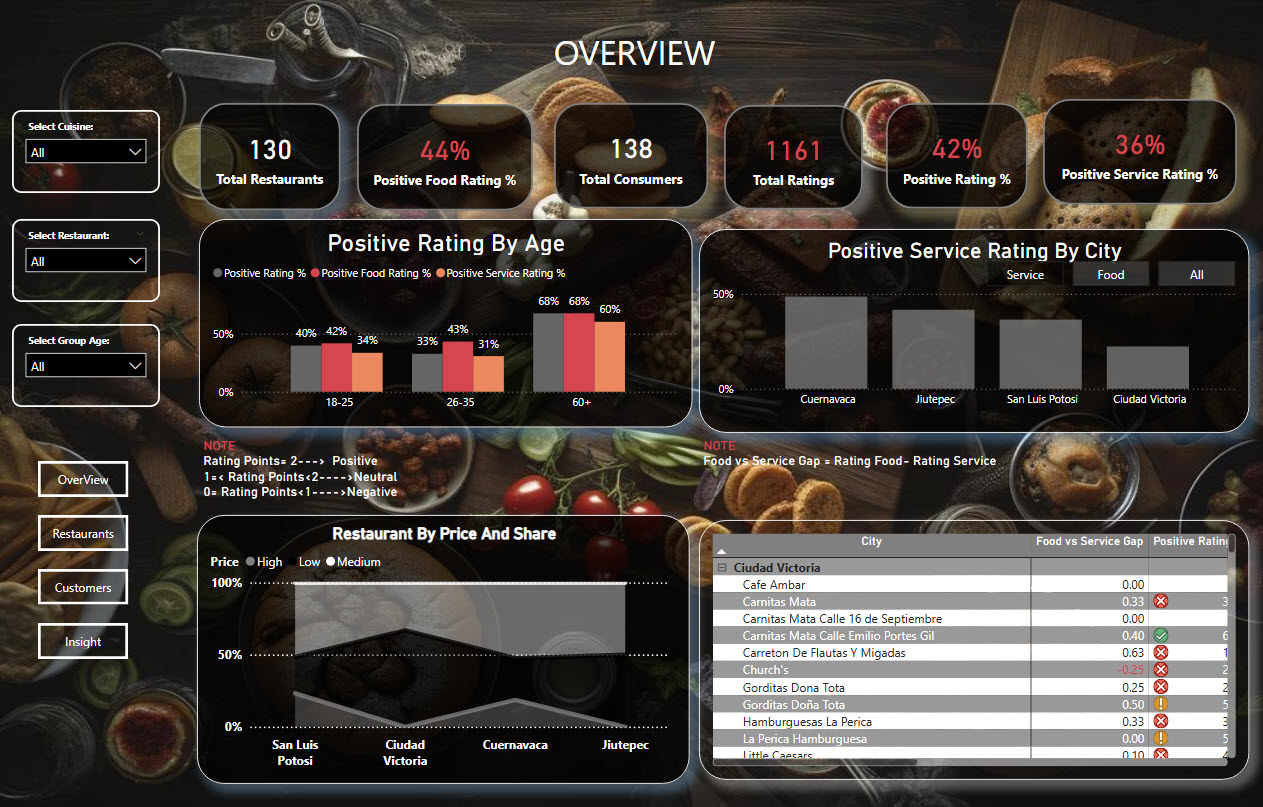

What the dashboard file says about the page in this screenshot:
{"tool":"powerbi","page":{"name":"OverView","canvas":[1400,900],"ordinal":0},"visuals":[{"type":"actionButton","title":"OverView","box":[42.8,512.6,100.2,39.9],"z":0},{"type":"card","title":"Total Revenue","fields":{"Values":["Measure.Total Restaurants"]},"box":[222,115,157,119],"z":1000},{"type":"card","title":"Total Revenue","fields":{"Values":["Measure.Positive Food Rating %"]},"box":[397,116,195,118],"z":2000},{"type":"card","title":"Total Revenue","fields":{"Values":["Measure.Total Consumers"]},"box":[615.1,115.3,170.7,117.5],"z":3000},{"type":"card","title":"Total Revenue","fields":{"Values":["Measure.Total Ratings"]},"box":[804,118,154,116],"z":4000},{"type":"card","title":"Total Revenue","fields":{"Values":["Measure.Positive Rating %"]},"box":[983.1,115.3,157.4,117.5],"z":5000},{"type":"card","title":"Total Revenue","fields":{"Values":["Measure.Positive Service Rating %"]},"box":[1157,111,215,117],"z":6000},{"type":"textbox","box":[333.6,28.2,741.2,110.9],"z":7000},{"type":"clusteredColumnChart","title":"Positive Rating By Age","fields":{"Category":["dim_consumers.Age Group"],"Y":["Measure.Positive Rating %","Measure.Positive Food Rating %","Measure.Positive Service Rating %"]},"box":[221.8,244.1,546.6,231.5],"z":8000},{"type":"hundredPercentStackedAreaChart","title":"Restaurant By Price And Share","fields":{"Category":["dim_restaurants.City"],"Y":["Measure.Restaurant Popularity"],"Series":["dim_restaurants.Price"]},"box":[219.5,571.9,546.4,298.2],"z":10000},{"type":"pivotTable","title":"Orders n Revenue by Month","fields":{"Rows":["dim_restaurants.City","dim_restaurants.Name"],"Values":["Measure.Food vs Service Gap","Measure.Positive Rating %","Measure.Positive Food Rating %","Measure.Positive Service Rating %"]},"box":[775.9,577.5,609.6,288.2],"z":11000},{"type":"slicer","fields":{"Values":["dim_restaurant_cuisines.Cuisine"]},"box":[14.6,123.5,164.4,92.4],"z":12000},{"type":"slicer","fields":{"Values":["dim_restaurants.Name"]},"box":[14.6,244.1,164.4,92.4],"z":13000},{"type":"slicer","fields":{"Values":["dim_consumers.Age Group"]},"box":[14.6,359.9,164.4,92.4],"z":14000},{"type":"actionButton","title":"OverView","box":[42.8,571.9,100.2,39.9],"z":15000},{"type":"actionButton","title":"OverView","box":[43.2,632.1,99.9,39.4],"z":16000},{"type":"clusteredColumnChart","title":"Positive  Service Rating By City ","fields":{"Y":["Measure.Positive Service Rating %"],"Category":["dim_restaurants.City"]},"box":[775.9,254.9,609.6,226.1],"z":18000},{"type":"bookmarkNavigator","box":[1095.1,290.4,277.1,28.8],"z":19000},{"type":"textbox","box":[221.7,481,544.2,86.5],"z":20000},{"type":"textbox","box":[775.9,481,609.6,86.5],"z":21000},{"type":"actionButton","title":"OverView","box":[43.2,691.6,99.8,39.9],"z":23000}]}

Visuals, with their boxes in screenshot pixels (x1, y1, x2, y2), scaled from the page's 1400x900 canvas onto the 1263x807 screenshot:
"OverView" actionButton: [39, 460, 129, 495]
"Total Revenue" card: [200, 103, 342, 210]
"Total Revenue" card: [358, 104, 534, 210]
"Total Revenue" card: [555, 103, 709, 209]
"Total Revenue" card: [725, 106, 864, 210]
"Total Revenue" card: [887, 103, 1029, 209]
"Total Revenue" card: [1044, 100, 1238, 204]
textbox: [301, 25, 970, 125]
"Positive Rating By Age" clusteredColumnChart: [200, 219, 693, 426]
"Restaurant By Price And Share" hundredPercentStackedAreaChart: [198, 513, 691, 780]
"Orders n Revenue by Month" pivotTable: [700, 518, 1250, 776]
slicer - dim_restaurant_cuisines.Cuisine: [13, 111, 161, 194]
slicer - dim_restaurants.Name: [13, 219, 161, 302]
slicer - dim_consumers.Age Group: [13, 323, 161, 406]
"OverView" actionButton: [39, 513, 129, 549]
"OverView" actionButton: [39, 567, 129, 602]
"Positive  Service Rating By City " clusteredColumnChart: [700, 229, 1250, 431]
bookmarkNavigator: [988, 260, 1238, 286]
textbox: [200, 431, 691, 509]
textbox: [700, 431, 1250, 509]
"OverView" actionButton: [39, 620, 129, 656]
